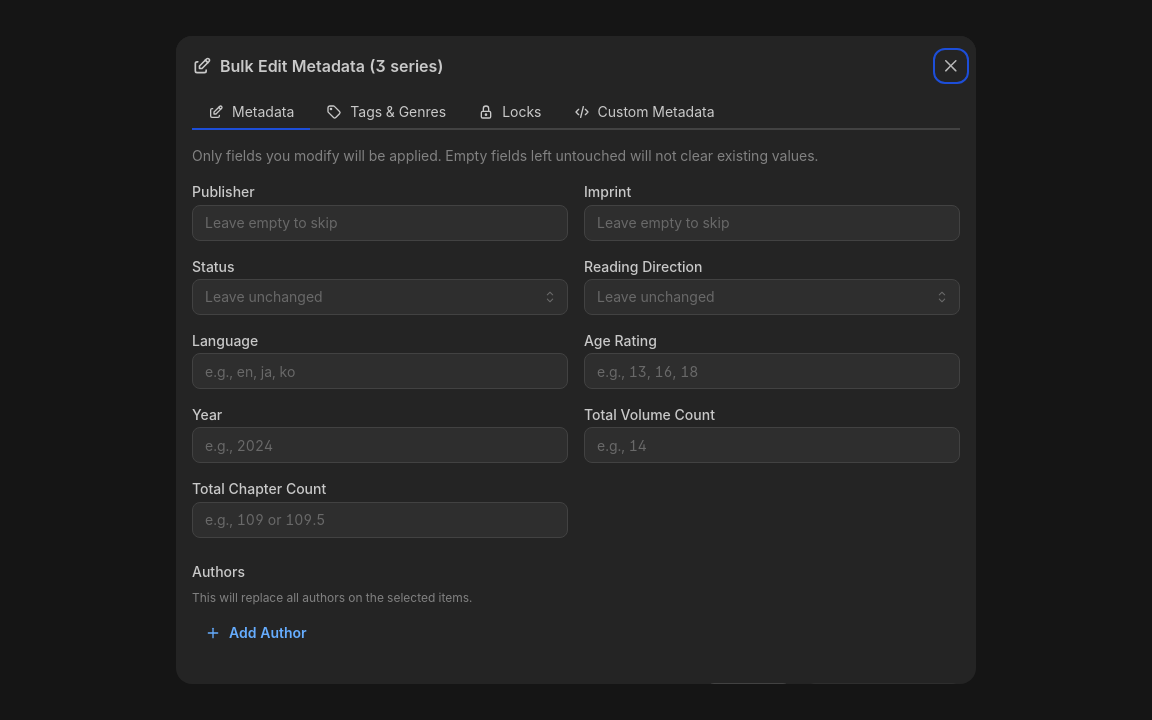
Scenario: BulkMetadataEditModal › metadata tab › switches to custom metadata tab and shows editor
Click the tab "Custom Metadata".
click(644, 113)  # box [558,96,730,130]
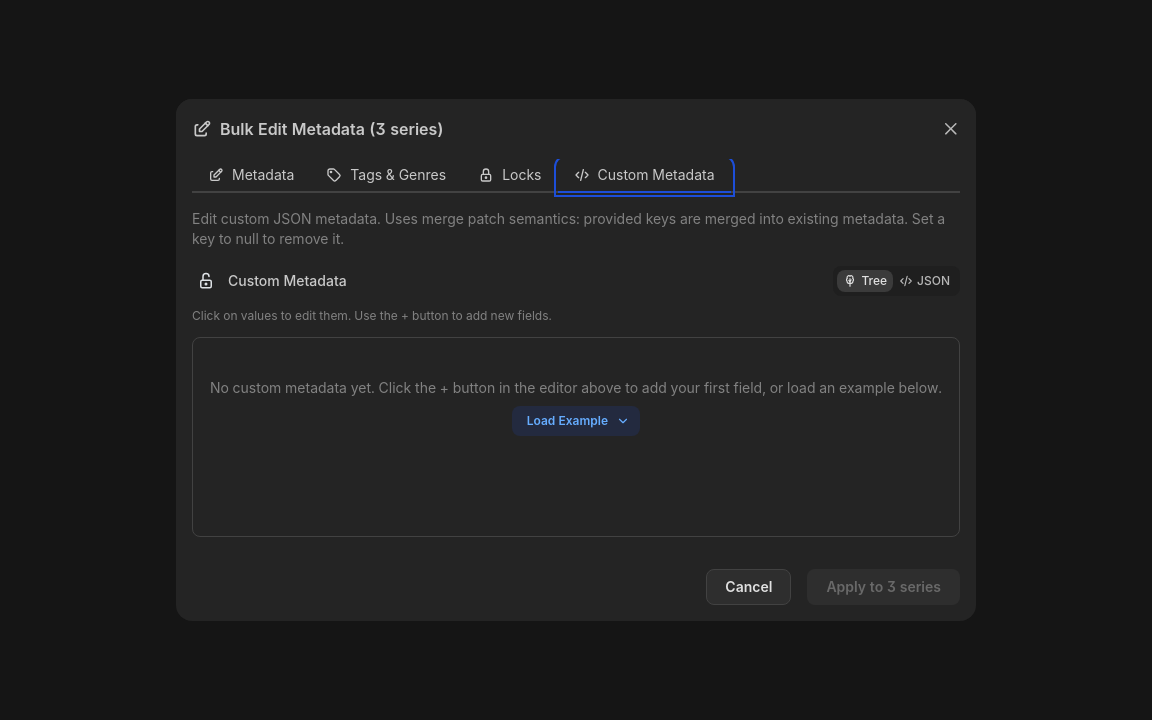
Expected: the text "merge patch semantics" is shown, [192,210,945,247]
